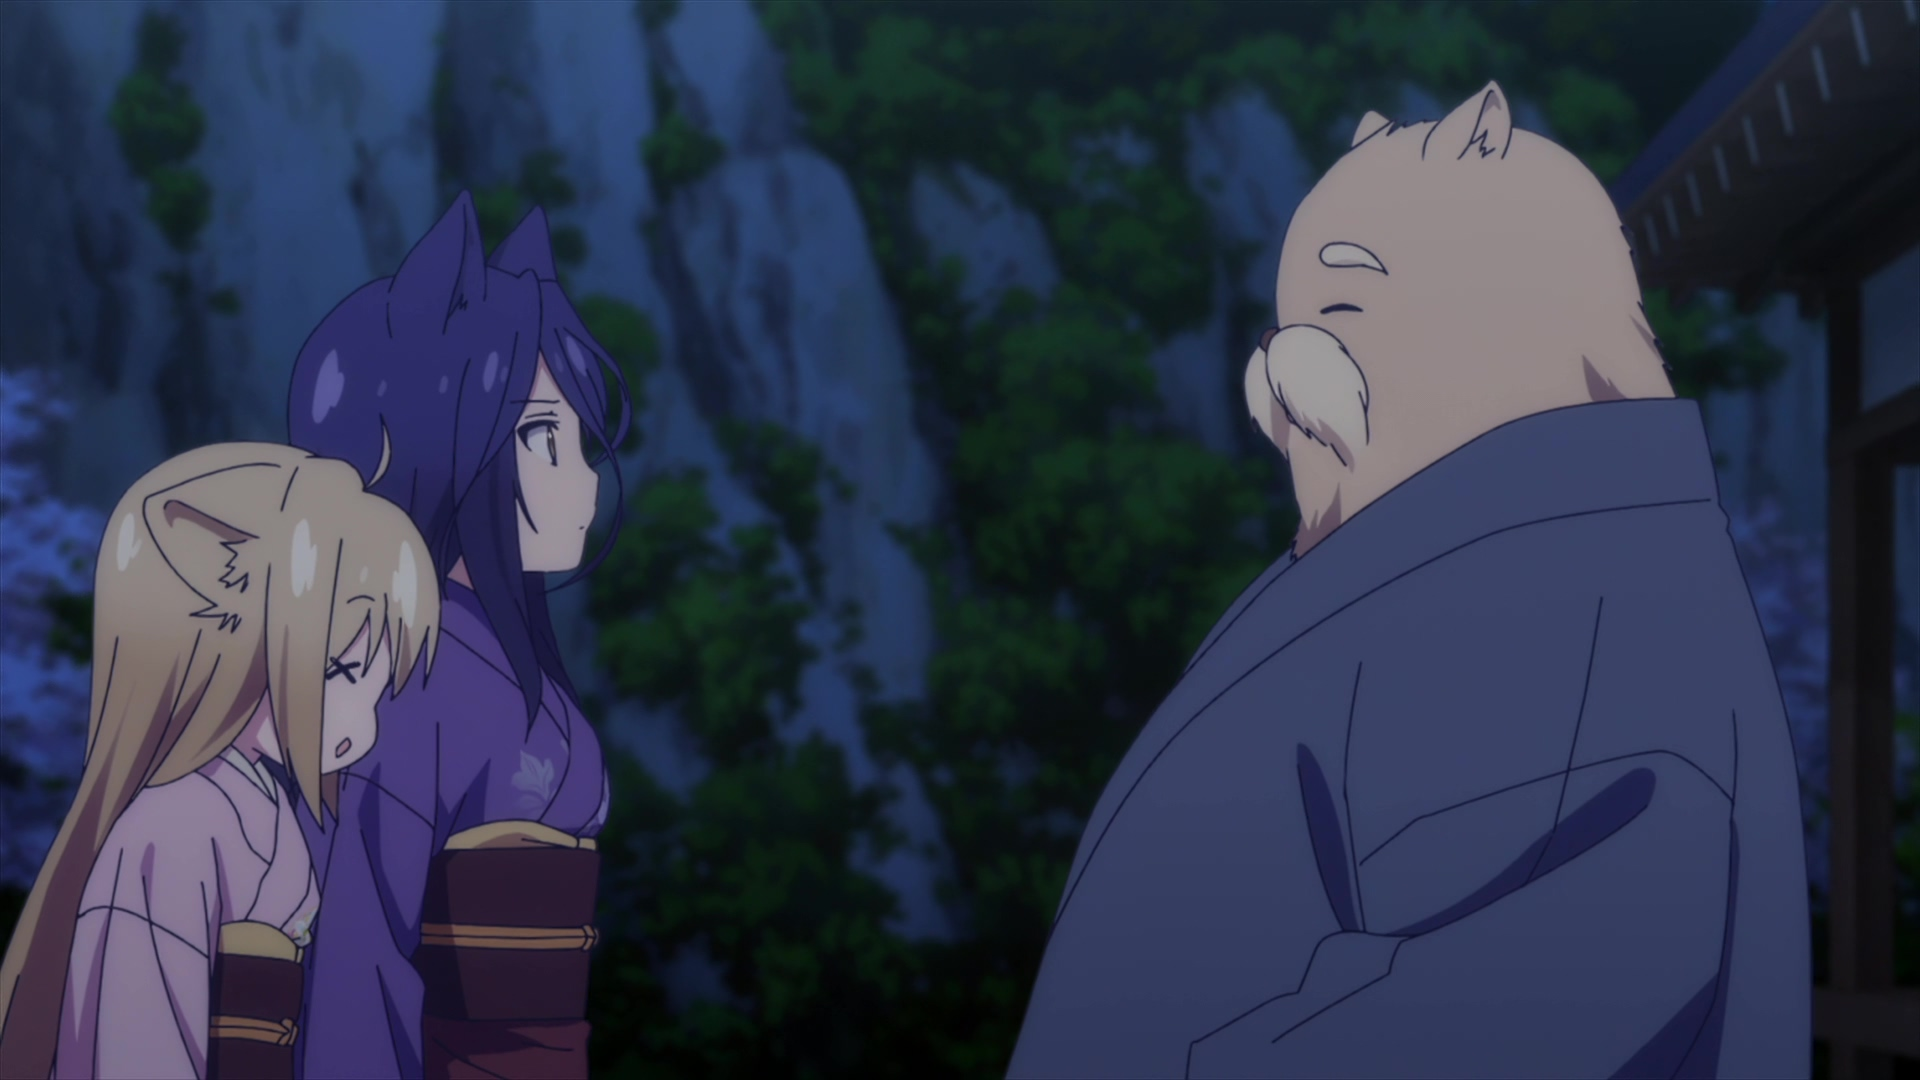柚: (1, 425, 443, 1080)
皋: (291, 193, 630, 1080)
药店老板: (1007, 82, 1815, 1080)
